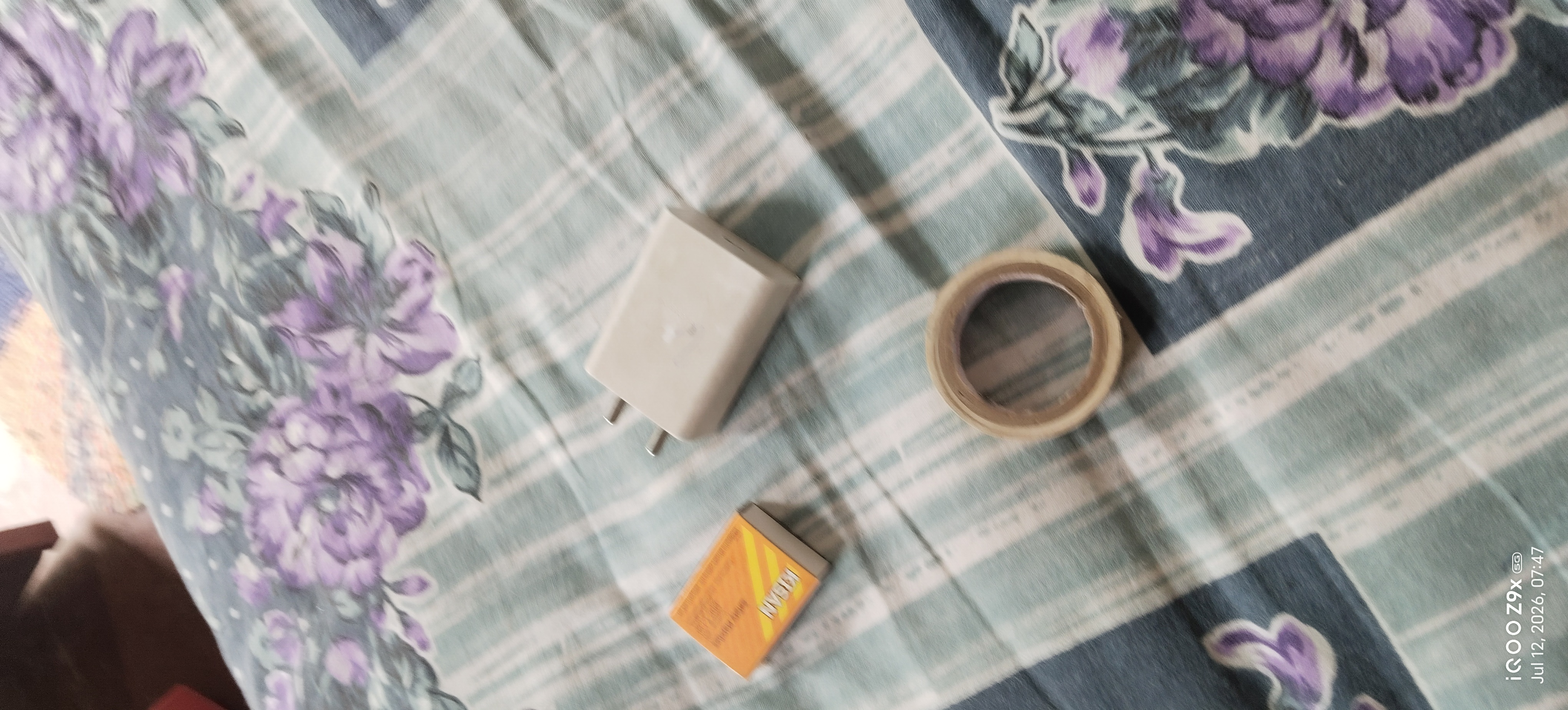charger: (559, 204, 827, 466)
matchbox: (632, 488, 853, 691)
tape_roll: (917, 234, 1135, 464)
